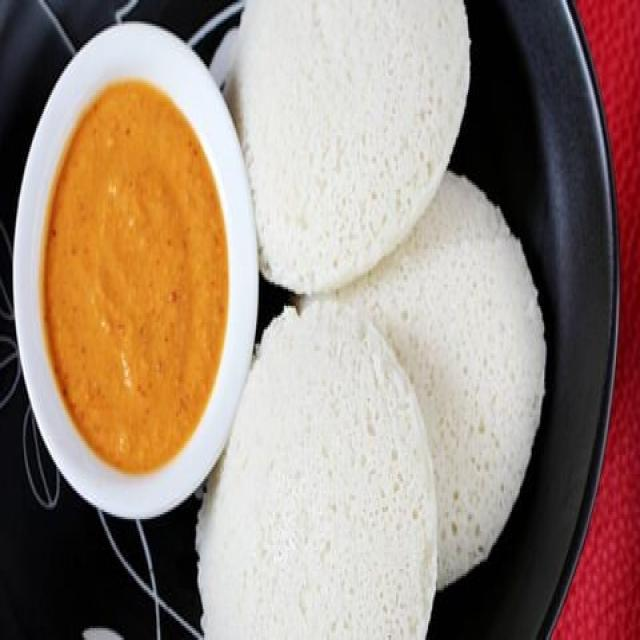IDLI: (320, 173, 545, 588), (199, 301, 436, 638), (225, 0, 469, 294)
